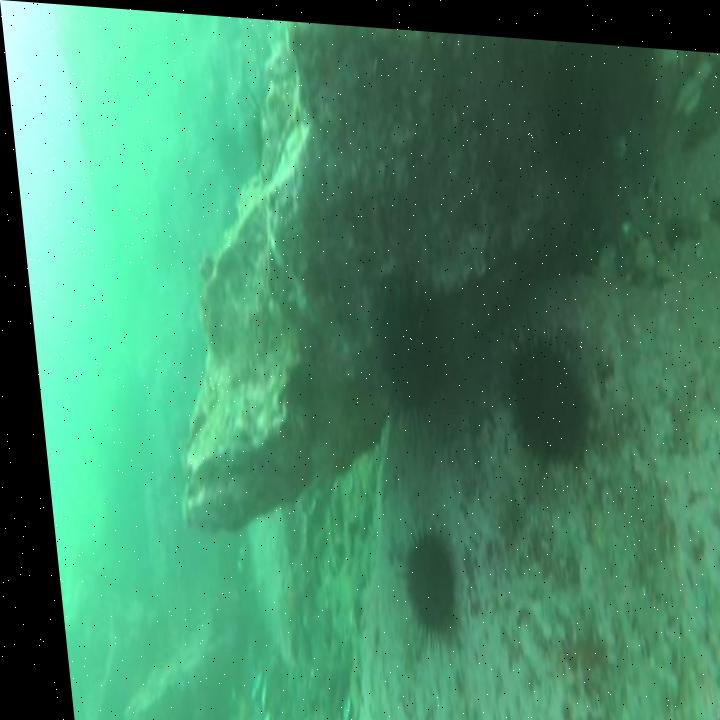echinus: (499, 339, 583, 462), (371, 305, 437, 406), (390, 532, 450, 633)
